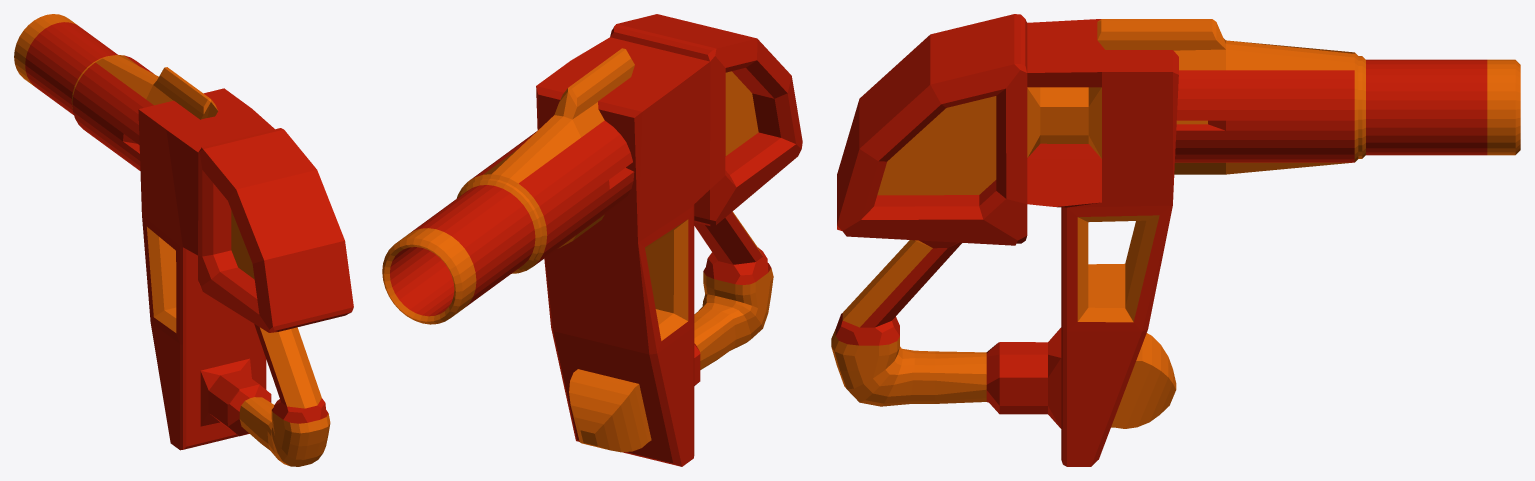
File: Pistol.fbx
3 renders of one model, left to right at view 1: azimuth 30°, elevation 25°; view 2: azimuth 150°, elevation 25°; view 3: azimuth 270°, elevation 25°, orthographic. The views are drawn at different scales.
Parts seen in each view (by area): view 1: ThirdVar; view 2: ThirdVar; view 3: ThirdVar.
Boxes of the visible parts, <box> form: ThirdVar: <box>14,14,353,466</box>; ThirdVar: <box>382,14,802,466</box>; ThirdVar: <box>831,14,1520,466</box>.
Size of the model in its own units: 12.83 by 45.45 by 67.56.
